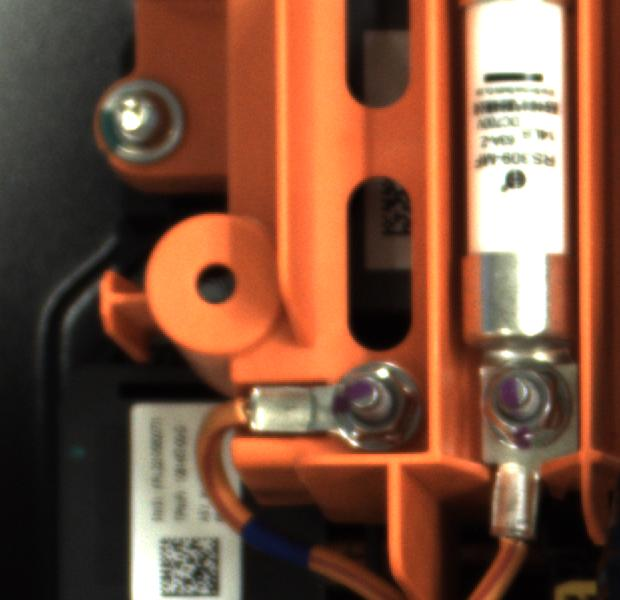screw_m: (94, 77, 198, 168)
screw_s: (473, 358, 568, 457), (323, 357, 413, 441)
